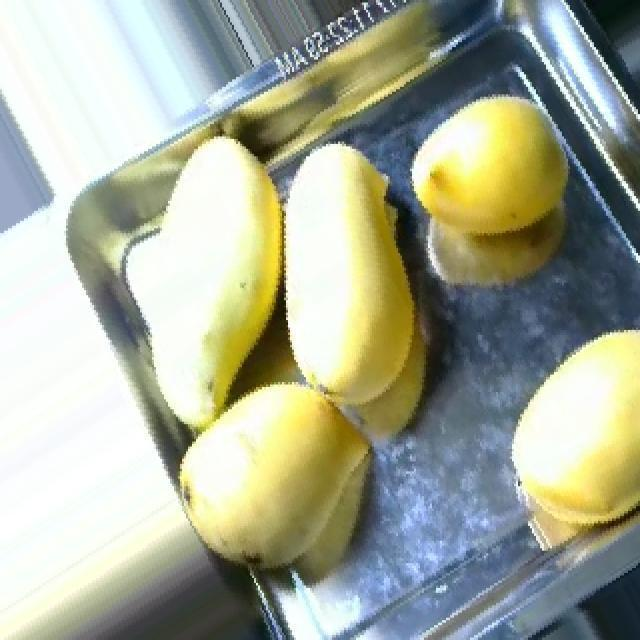Mango: (155, 136, 282, 428), (180, 382, 372, 568), (286, 144, 416, 407), (510, 331, 640, 524), (410, 98, 572, 236)
